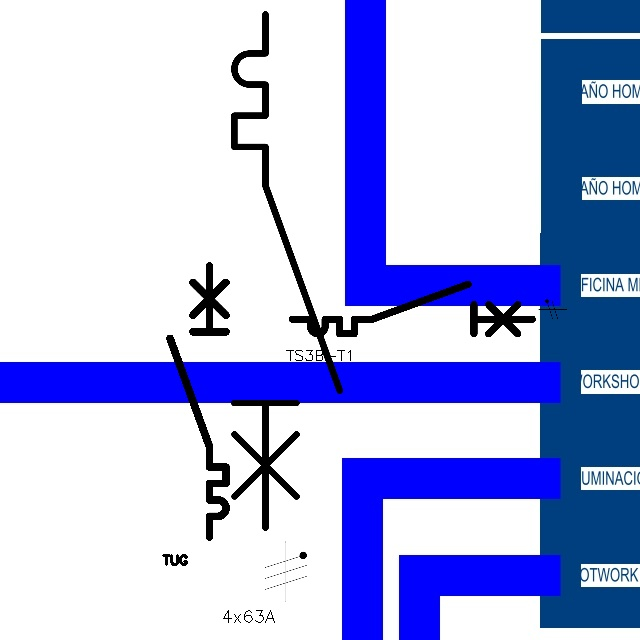interruptor_termomagnetico: (221, 1, 353, 541), (163, 259, 233, 544), (286, 278, 539, 340)
